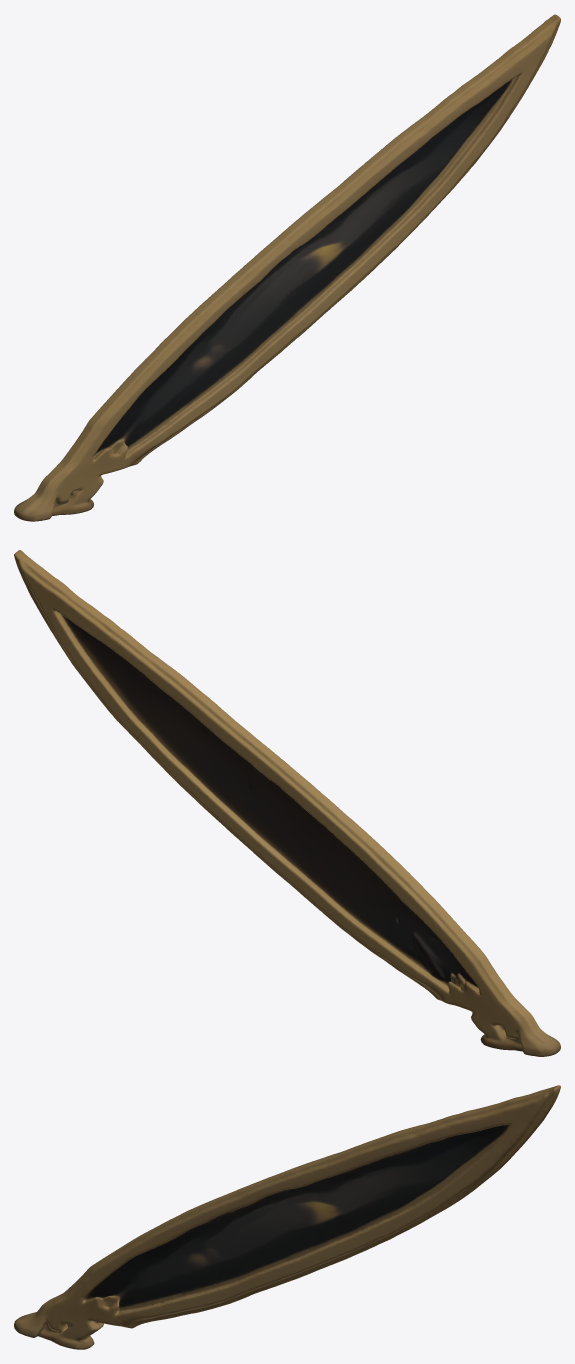
The model's file is ear_single_ref-4.glb.
The picture shows the model from 3 angles, top to bottom: view 1: azimuth 30°, elevation 25°; view 2: azimuth 150°, elevation 25°; view 3: azimuth 330°, elevation 25°; orthographic projection.
Bounding box in the file's own units: 1 × 0.6631 × 0.055.
Materials: 1 (1 with a texture image).
